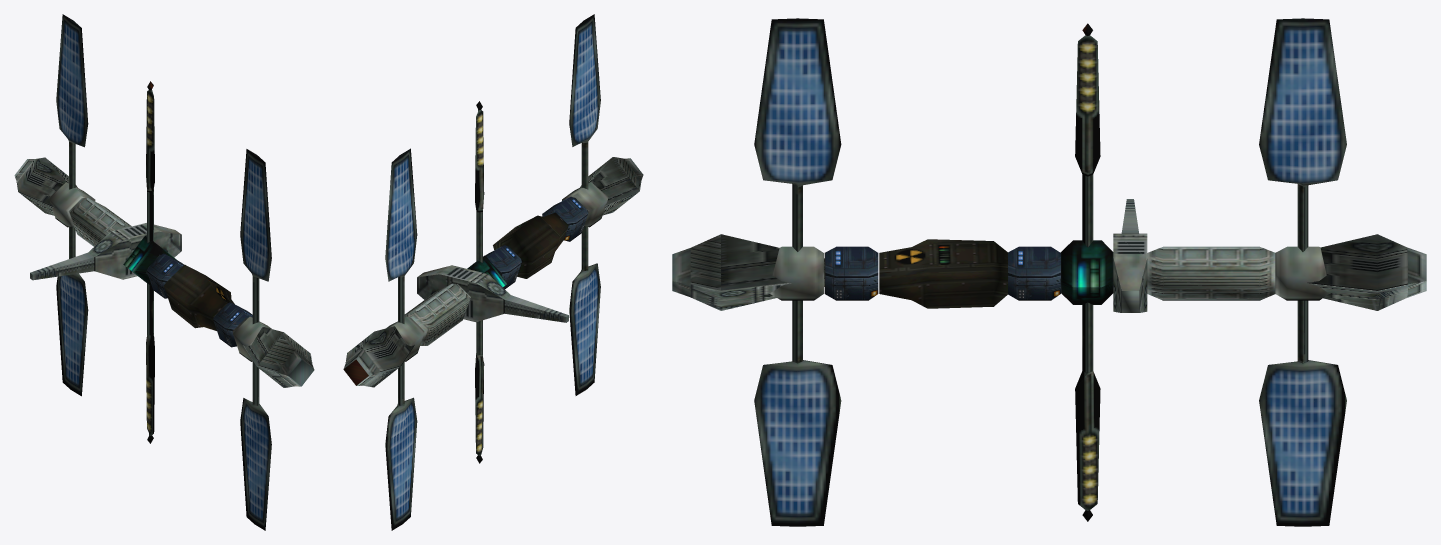
Rendered from utl01.obj.
3 renders of one model, left to right at view 1: azimuth 30°, elevation 25°; view 2: azimuth 150°, elevation 25°; view 3: azimuth 270°, elevation 25°, orthographic. The views are drawn at different scales.
Parts seen in each view (by area): view 1: frm-lslrpan1, frm-solar_panel1, frm-rfuselg3, frm-pwrpak, frm-beacon2, frm-blfuselg, frm-shield, frm-bfuselg, frm-beacon1, frm-lfuselg3, frm-rfuselg2, frm-lfuselg4 (+2 smaller); view 2: frm-lslrpan1, frm-solar_panel1, frm-rfuselg3, frm-pwrpak, frm-beacon2, frm-shield, frm-bfuselg, frm-blfuselg, frm-lfuselg3, frm-lfuselg2, frm-lfuselg4, frm-rfuselg1 (+2 smaller); view 3: frm-solar_panel1, frm-lslrpan1, frm-beacon2, frm-pwrpak, frm-shield, frm-blfuselg, frm-bfuselg, frm-rfuselg3, frm-beacon1, frm-lfuselg3, frm-lfuselg4, frm-rfuselg2 (+3 smaller).
Boxes of the visible parts, bbox=[...] form: frm-lslrpan1: bbox=[240, 149, 271, 530]; frm-solar_panel1: bbox=[56, 14, 88, 396]; frm-rfuselg3: bbox=[30, 223, 181, 280]; frm-pwrpak: bbox=[164, 264, 234, 330]; frm-beacon2: bbox=[146, 81, 154, 443]; frm-blfuselg: bbox=[243, 327, 312, 372]; frm-shield: bbox=[69, 198, 131, 246]; frm-bfuselg: bbox=[16, 157, 77, 207]; frm-beacon1: bbox=[123, 235, 177, 286]; frm-lfuselg3: bbox=[213, 302, 252, 347]; frm-rfuselg2: bbox=[49, 182, 95, 227]; frm-lfuselg4: bbox=[146, 253, 183, 298]; frm-lslrpan1: bbox=[569, 14, 600, 395]; frm-solar_panel1: bbox=[385, 148, 417, 530]; frm-rfuselg3: bbox=[417, 265, 568, 322]; frm-pwrpak: bbox=[493, 212, 568, 278]; frm-beacon2: bbox=[475, 101, 484, 463]; frm-shield: bbox=[404, 283, 470, 345]; frm-bfuselg: bbox=[345, 326, 414, 371]; frm-blfuselg: bbox=[580, 157, 641, 206]; frm-lfuselg3: bbox=[542, 196, 588, 241]; frm-lfuselg2: bbox=[562, 182, 608, 227]; frm-lfuselg4: bbox=[485, 245, 521, 288]; frm-rfuselg1: bbox=[343, 349, 379, 385]; frm-solar_panel1: bbox=[1259, 18, 1346, 526]; frm-lslrpan1: bbox=[754, 18, 841, 526]; frm-beacon2: bbox=[1075, 23, 1100, 521]; frm-pwrpak: bbox=[879, 239, 1007, 308]; frm-shield: bbox=[1147, 246, 1275, 300]; frm-blfuselg: bbox=[690, 234, 824, 290]; frm-bfuselg: bbox=[1307, 234, 1407, 290]; frm-rfuselg3: bbox=[1113, 199, 1147, 312]; frm-beacon1: bbox=[1060, 240, 1113, 304]; frm-lfuselg3: bbox=[824, 246, 878, 300]; frm-lfuselg4: bbox=[1008, 246, 1060, 300]; frm-rfuselg2: bbox=[1275, 246, 1328, 300].
Size of what is drawn, in the model's own units: 3.2 by 7.77 by 10.28.
